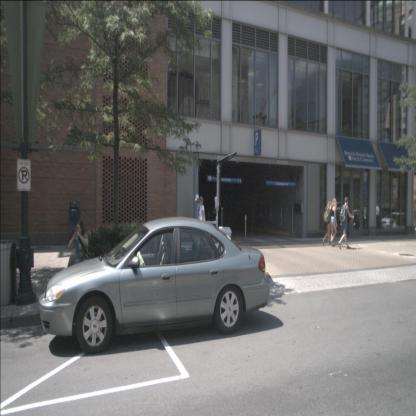human-pedestrian-adult: (67, 221, 92, 299), (338, 196, 354, 250), (326, 198, 338, 247), (322, 201, 332, 246), (194, 194, 202, 248), (198, 196, 206, 247)
vehicle-car: (38, 216, 270, 353), (361, 207, 396, 231), (381, 212, 411, 234), (337, 212, 360, 230)
